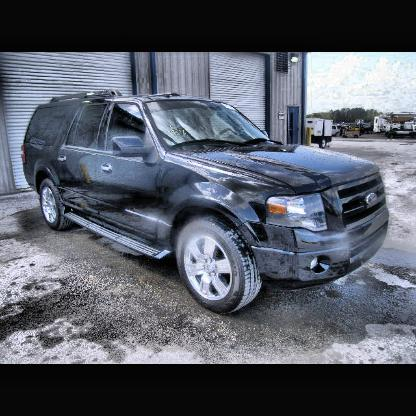Ford Expedition EL SUV 2009: (24, 93, 390, 319)
